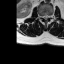CCS_normal: (45, 12, 46, 21)
LFS_normal: (48, 12, 50, 19)
LLS_normal: (46, 12, 48, 20)
RFS_normal: (41, 12, 43, 19)
RLS_normal: (43, 13, 45, 20)
